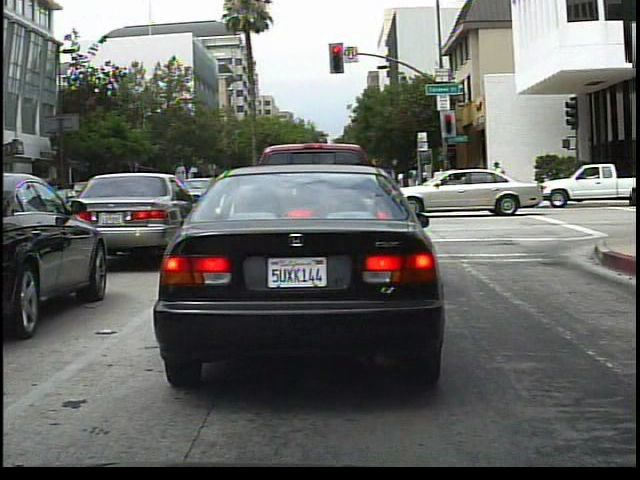person: (328, 161, 363, 219), (490, 157, 509, 198), (470, 158, 488, 200)
